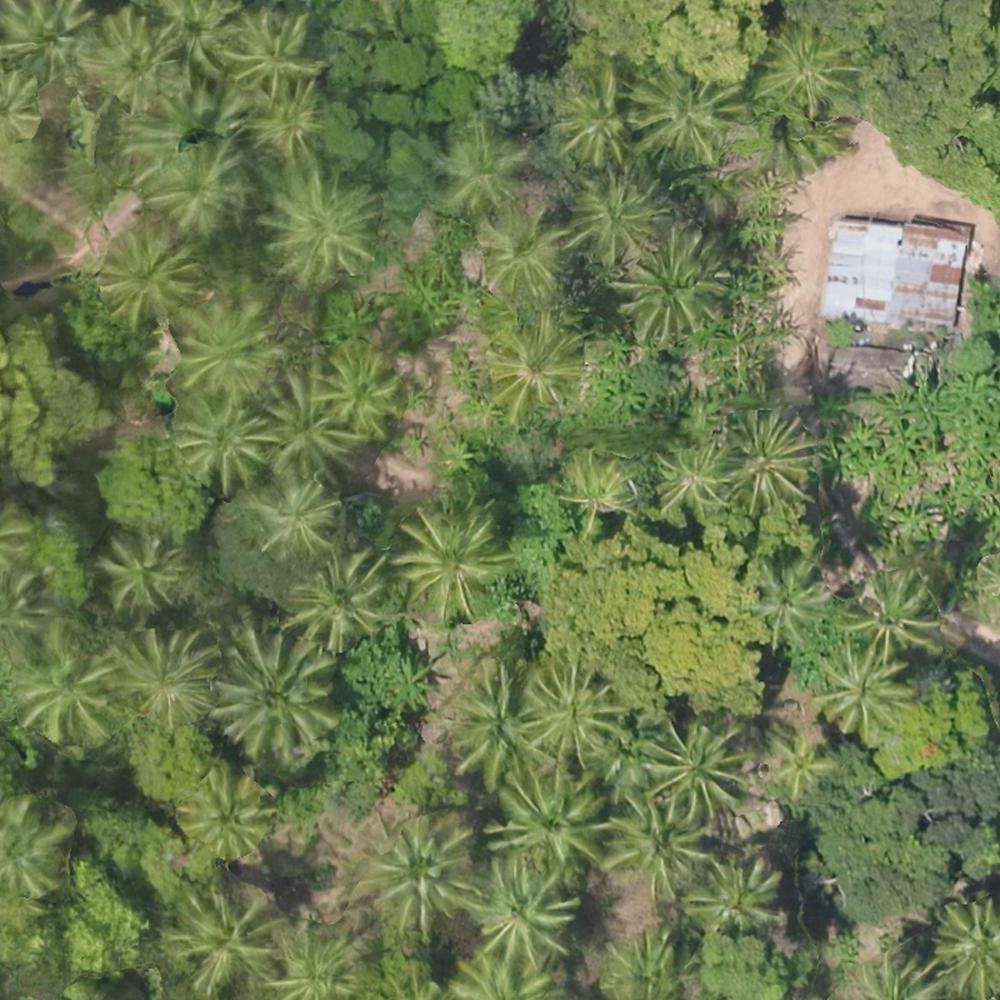Palm: (218, 633, 330, 746), (631, 62, 742, 166), (496, 767, 610, 868), (369, 825, 477, 930), (269, 169, 378, 273), (396, 509, 504, 611), (9, 632, 112, 736), (168, 886, 272, 982), (475, 861, 580, 956), (625, 232, 725, 330), (310, 342, 403, 446), (811, 643, 910, 739), (254, 369, 350, 467), (721, 410, 816, 506), (180, 300, 275, 395), (483, 319, 579, 413), (566, 171, 665, 262), (648, 719, 742, 814), (604, 799, 704, 888), (526, 660, 618, 756), (451, 673, 535, 778), (100, 228, 194, 321), (470, 208, 565, 299), (846, 567, 942, 657), (121, 630, 215, 721), (222, 10, 320, 96), (760, 22, 852, 109), (744, 555, 832, 642), (555, 68, 633, 163), (290, 557, 381, 638), (155, 148, 245, 227), (178, 393, 259, 480), (245, 474, 334, 551), (235, 76, 322, 151), (438, 122, 520, 201), (186, 772, 265, 854), (269, 933, 366, 999), (95, 533, 174, 610), (694, 856, 777, 928), (559, 446, 634, 522), (763, 730, 840, 799), (650, 439, 720, 509)
